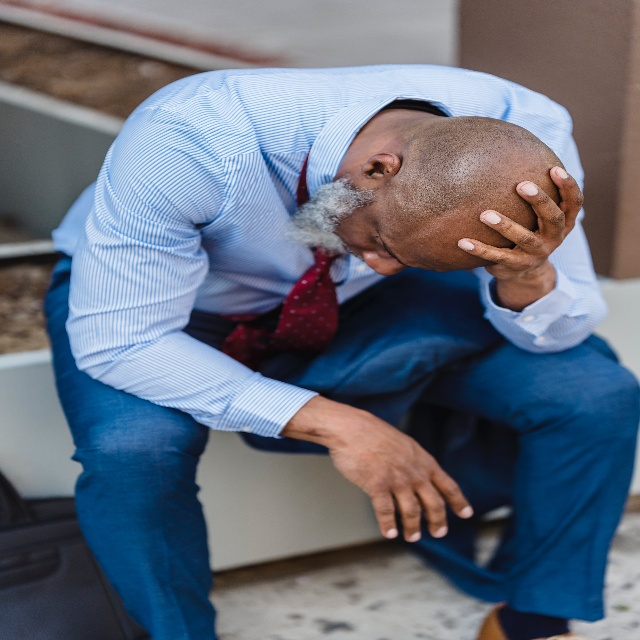Sin_guantes: (330, 406, 475, 542), (457, 163, 585, 278)
